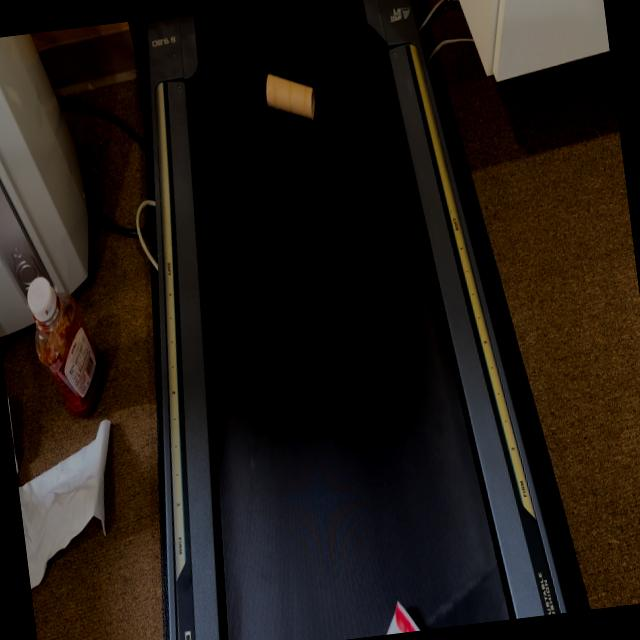Recycle: (260, 64, 319, 128)
